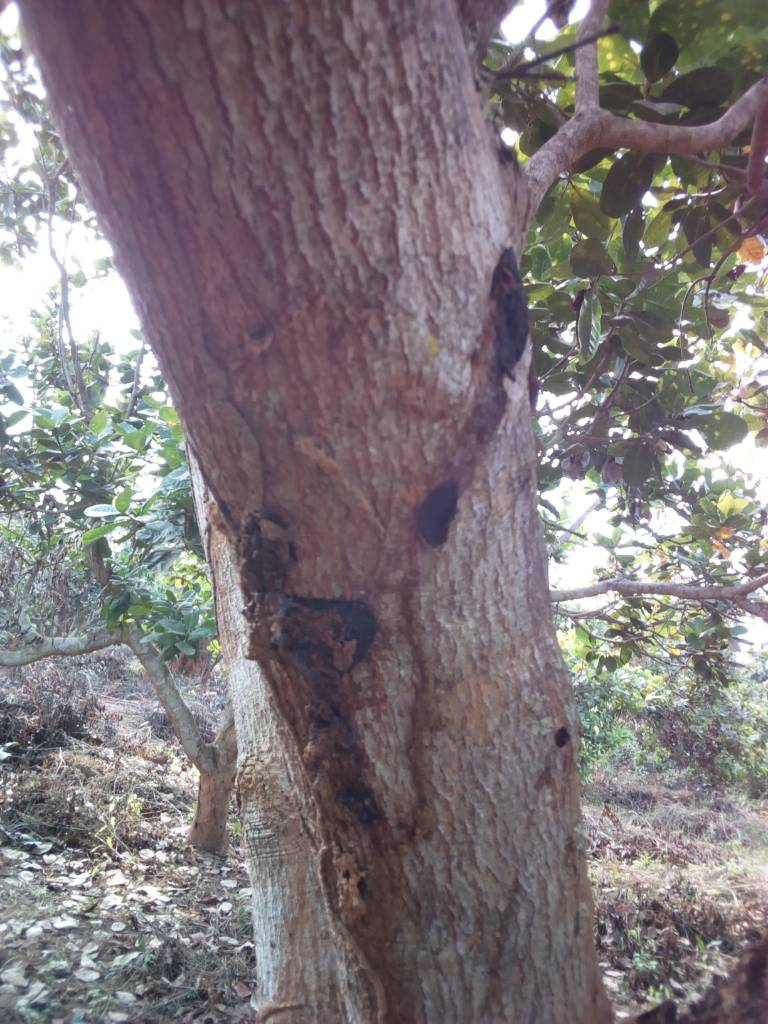Termites: (235, 491, 436, 1024)
